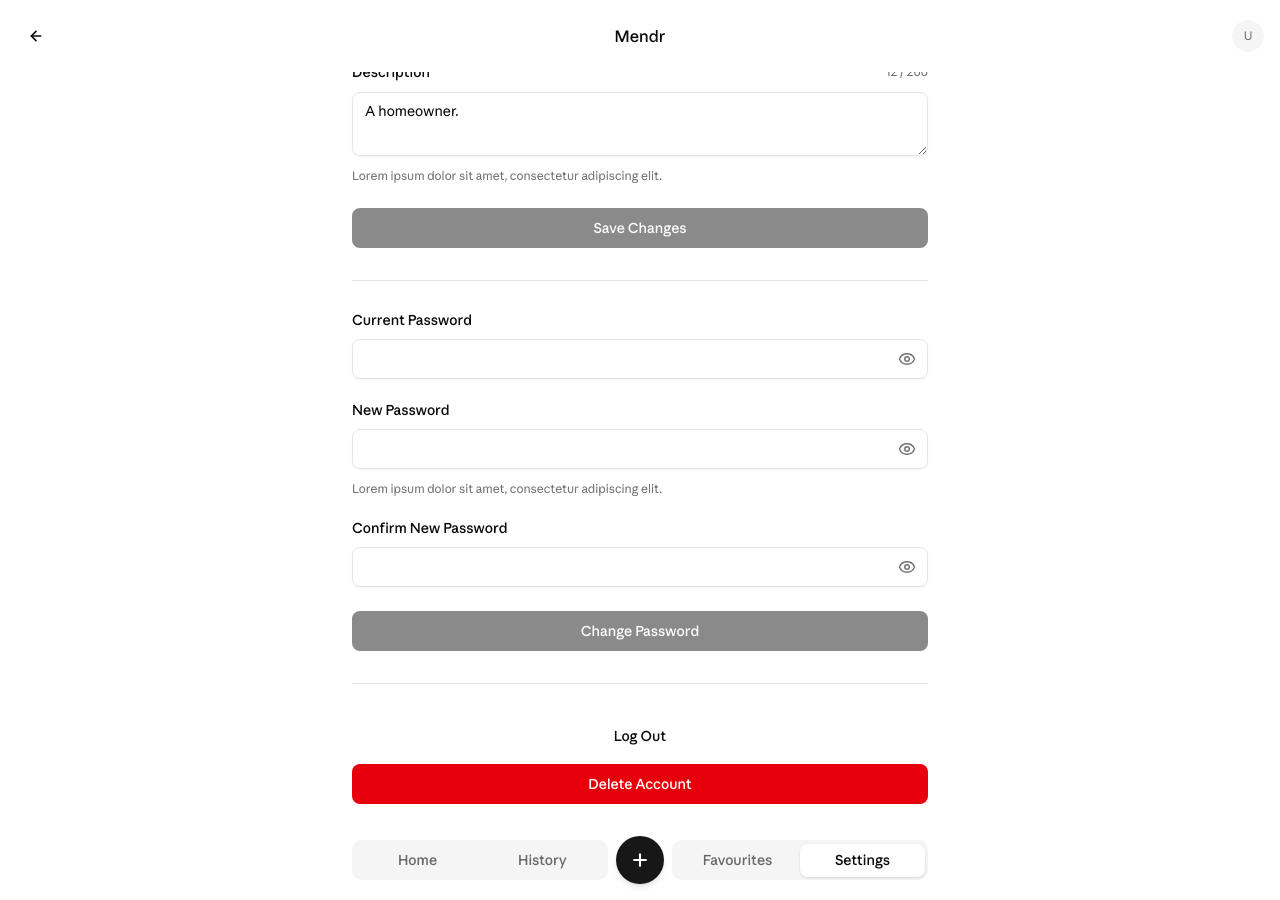
Test: settings/account/client.tsx › "Delete Account" confirm action is disabled until email matches
This screenshot has width=1280, height=900.
(page scrolled)
Step 1. Click the button "Delete Account" → point(640, 784), box x1=352 y1=764 x2=928 y2=804
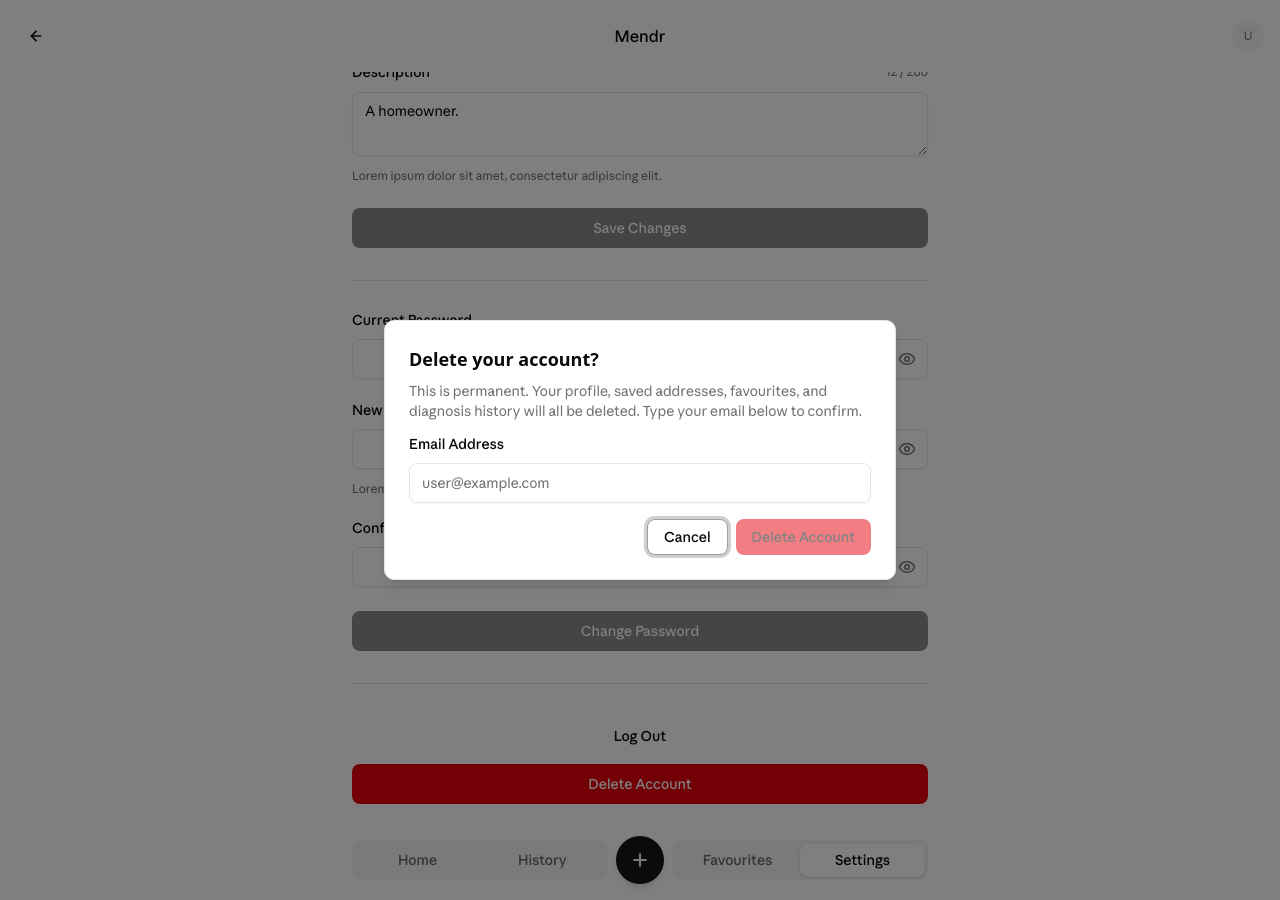
Expected: the dialog is shown, x1=384 y1=320 x2=896 y2=580
Expected: the button "Delete Account" is disabled, x1=736 y1=519 x2=871 y2=555
